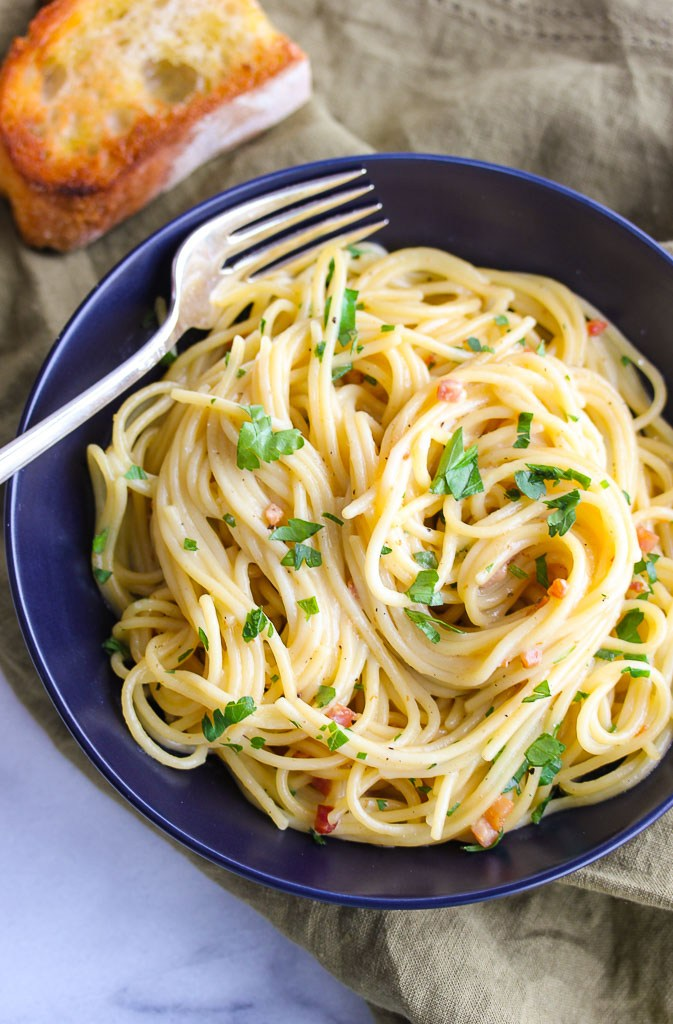plain spaghetti: (234, 371, 646, 788)
